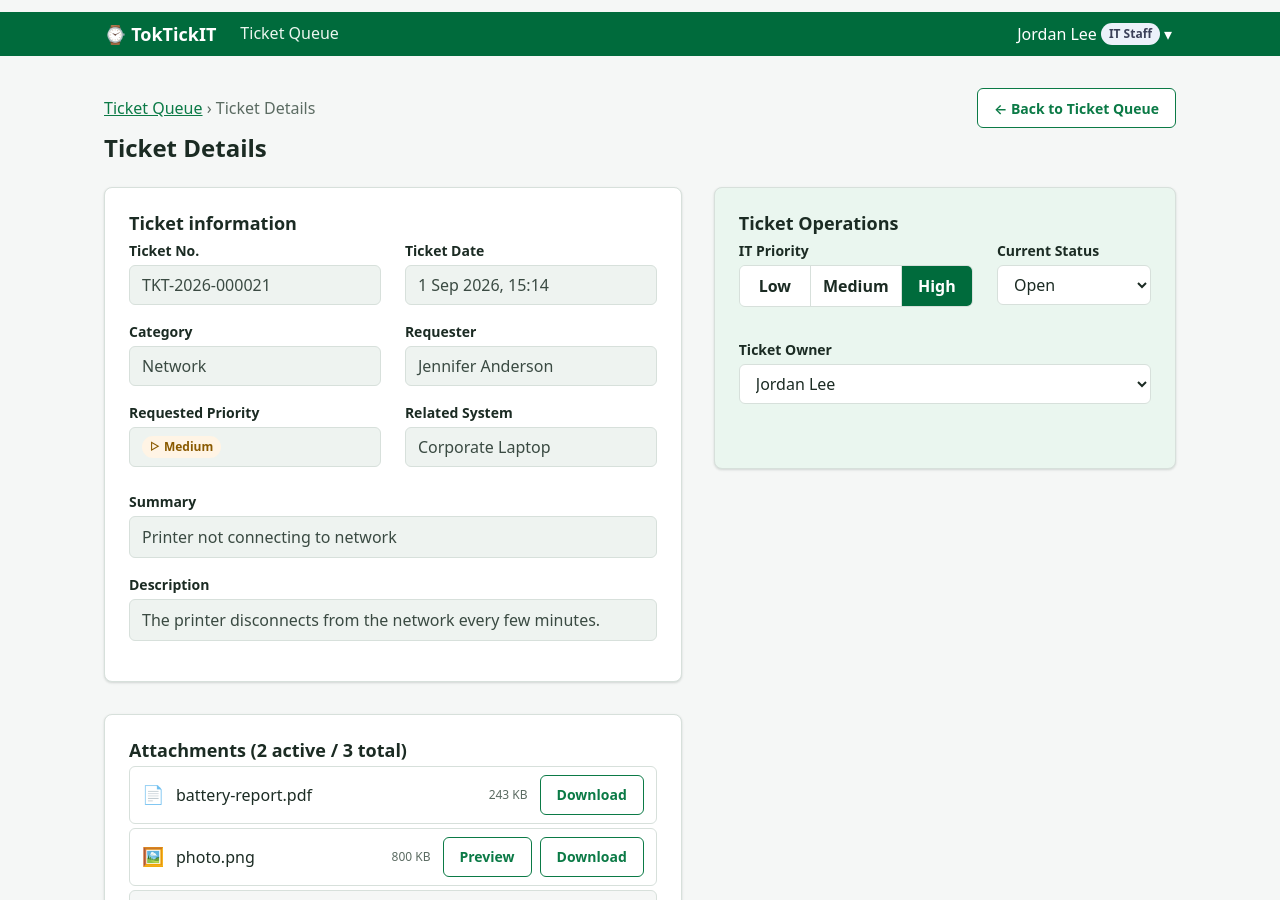
Test case: Ticket Owner control (ui-spec.md §10) › a 409 INVALID_OWNER restores the previous selection and shows a field-level error
The width and height of the screenshot is (1280, 900).
Expected: the text "TKT-2026-000021" is shown, [129,265,381,305]
Select "Sam Patel" in the dropdown labelled "Ticket Owner": [945, 384] box [739,364,1151,404]
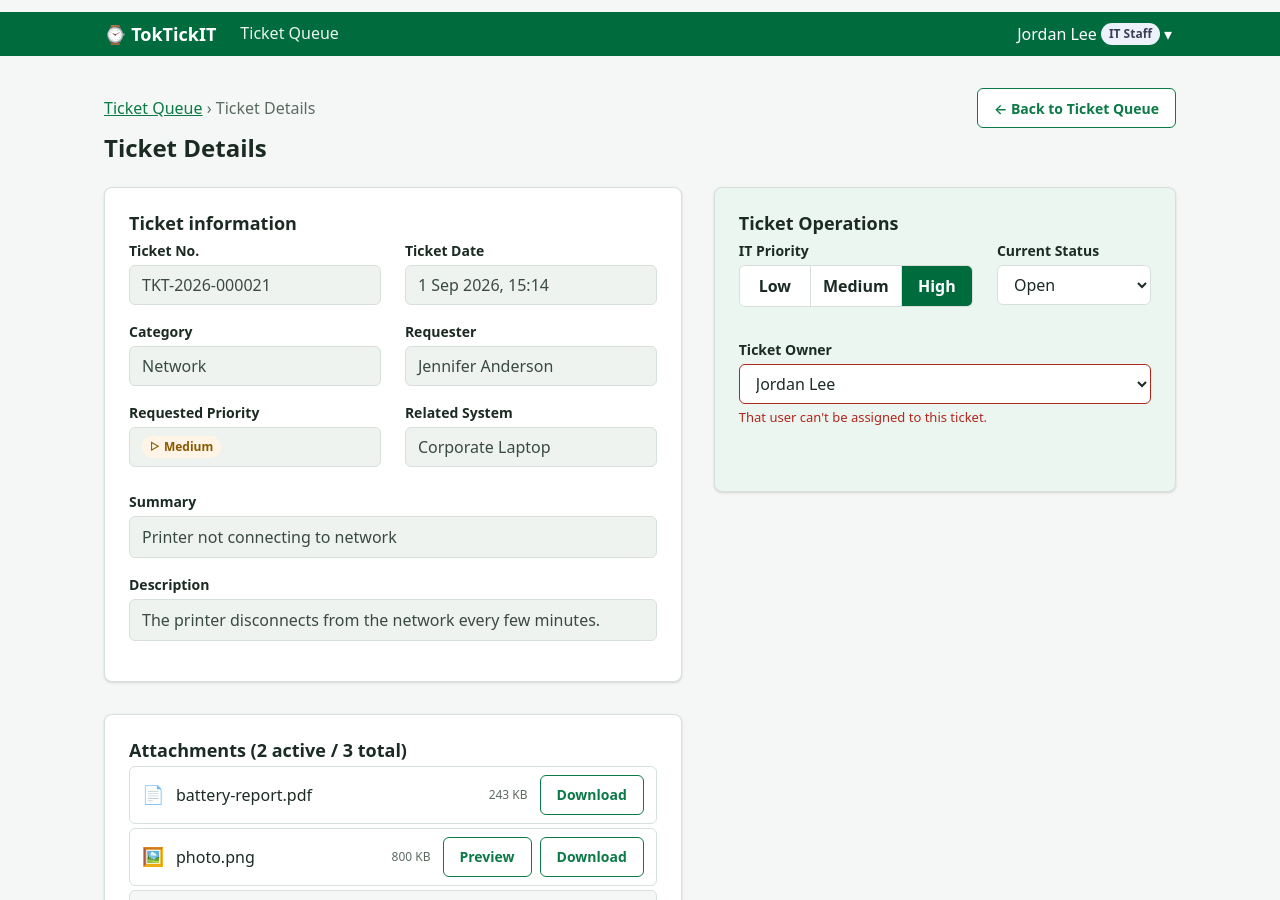
Now the message reads "That user can't be assigned to this ticket.", box [739,408,987,426]
